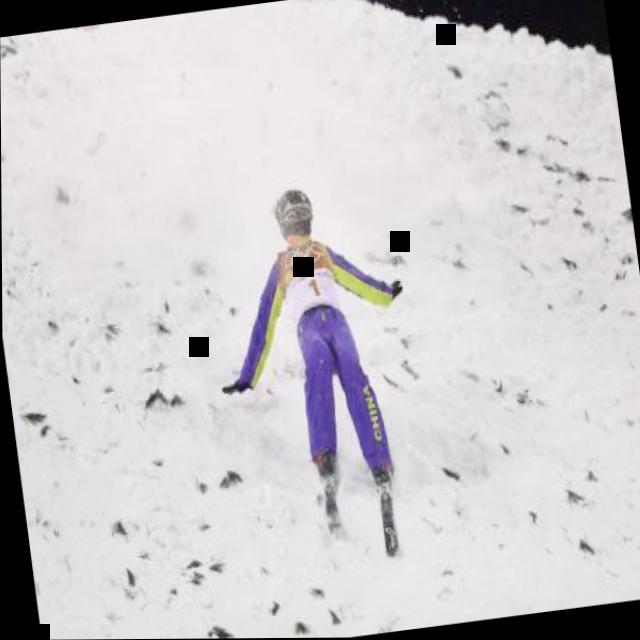Fall-Detected: (196, 168, 435, 561)
